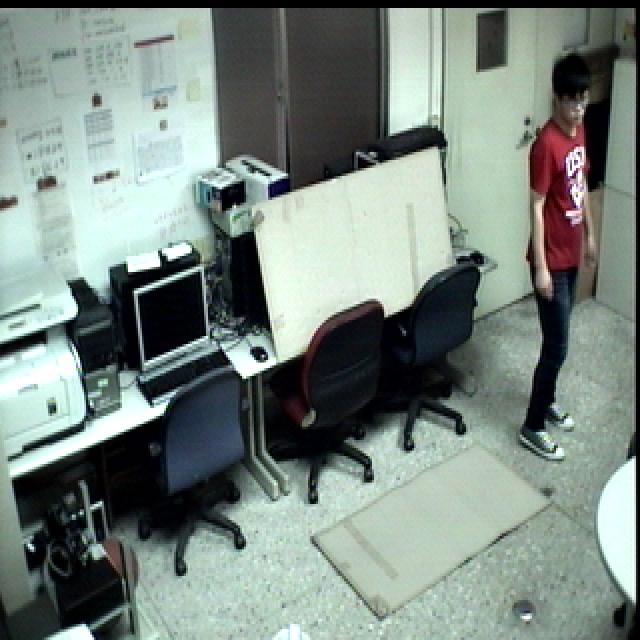stand: (514, 48, 604, 468)
